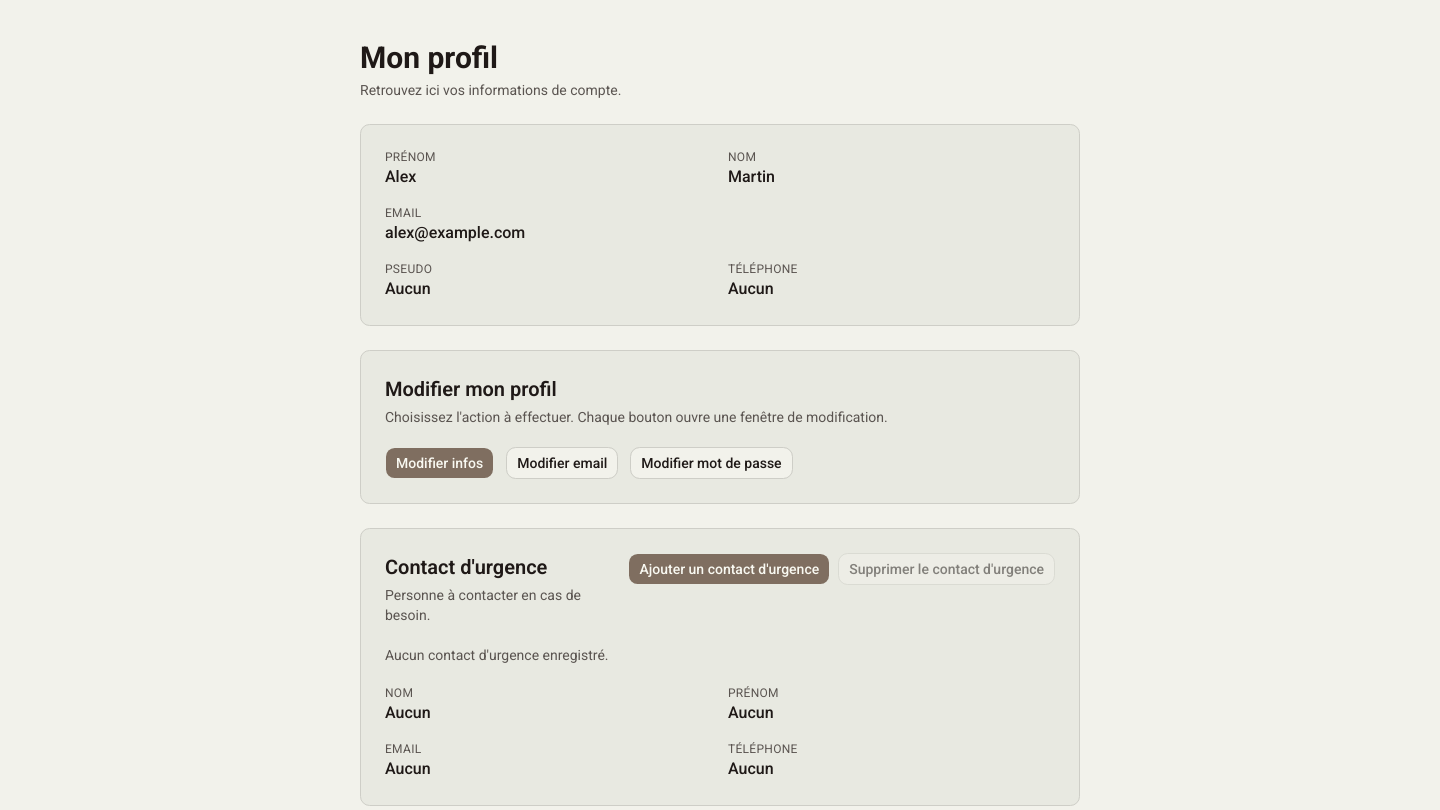
it: ProfileContent › opens password modal
The width and height of the screenshot is (1440, 810).
Expected: the heading "Mon profil" is shown, [360,40,498,75]
Click the button "Modifier mot de passe": (712, 463) [630,447,793,479]
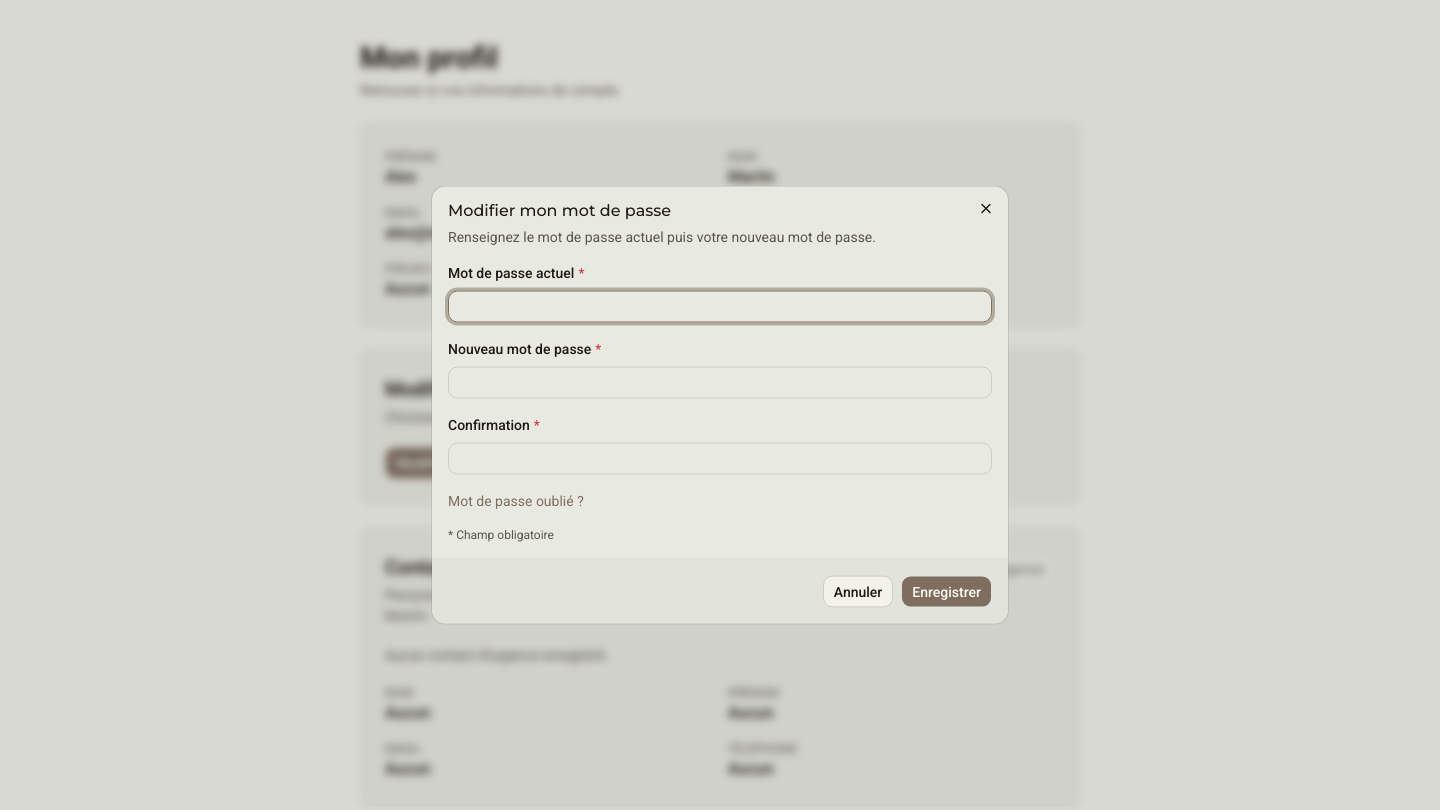
Result: the password field labelled "Mot de passe actuel" is shown at [448,290,992,322]
Result: the password field labelled "Nouveau mot de passe" is shown at [448,366,992,398]
Result: the password field labelled "Confirmation" is shown at [448,442,992,474]
